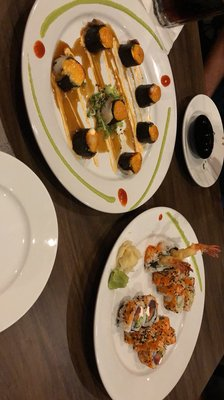sushi: (14, 2, 177, 214)
